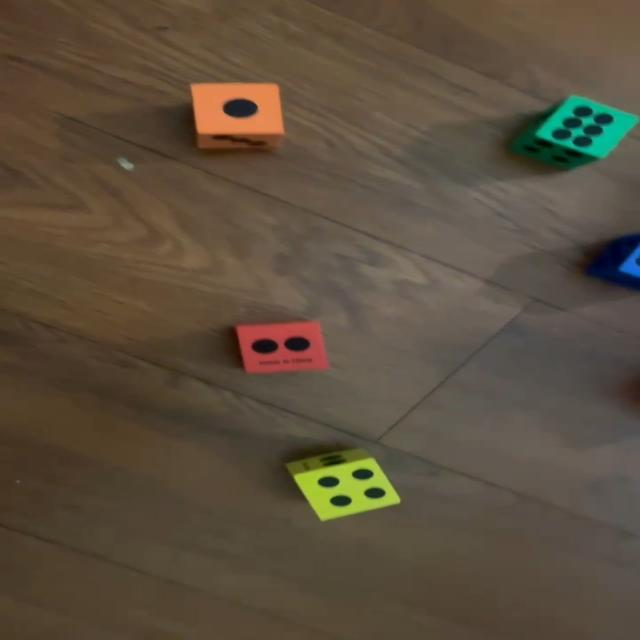blue_block: (585, 235, 640, 289)
red_block: (237, 319, 331, 375)
